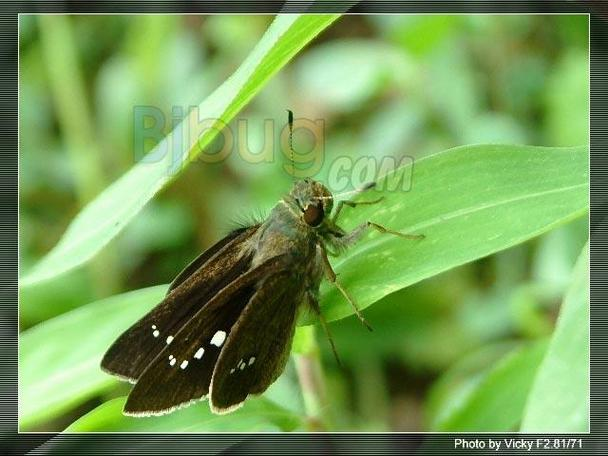Hesperiidae: (98, 101, 428, 420)
